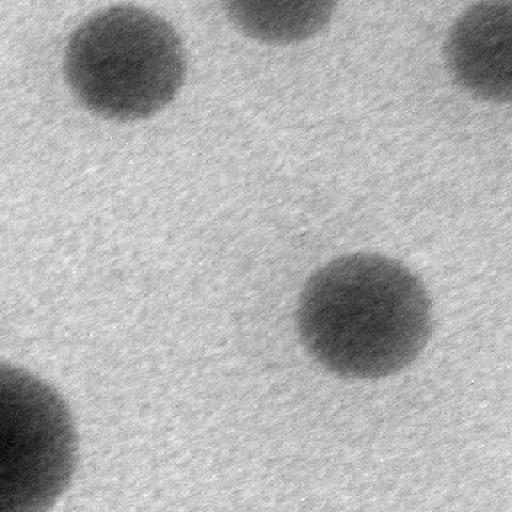Nanoparticles: (296, 248, 440, 384), (63, 4, 186, 121), (1, 360, 81, 512), (218, 1, 348, 51), (444, 1, 512, 95)
